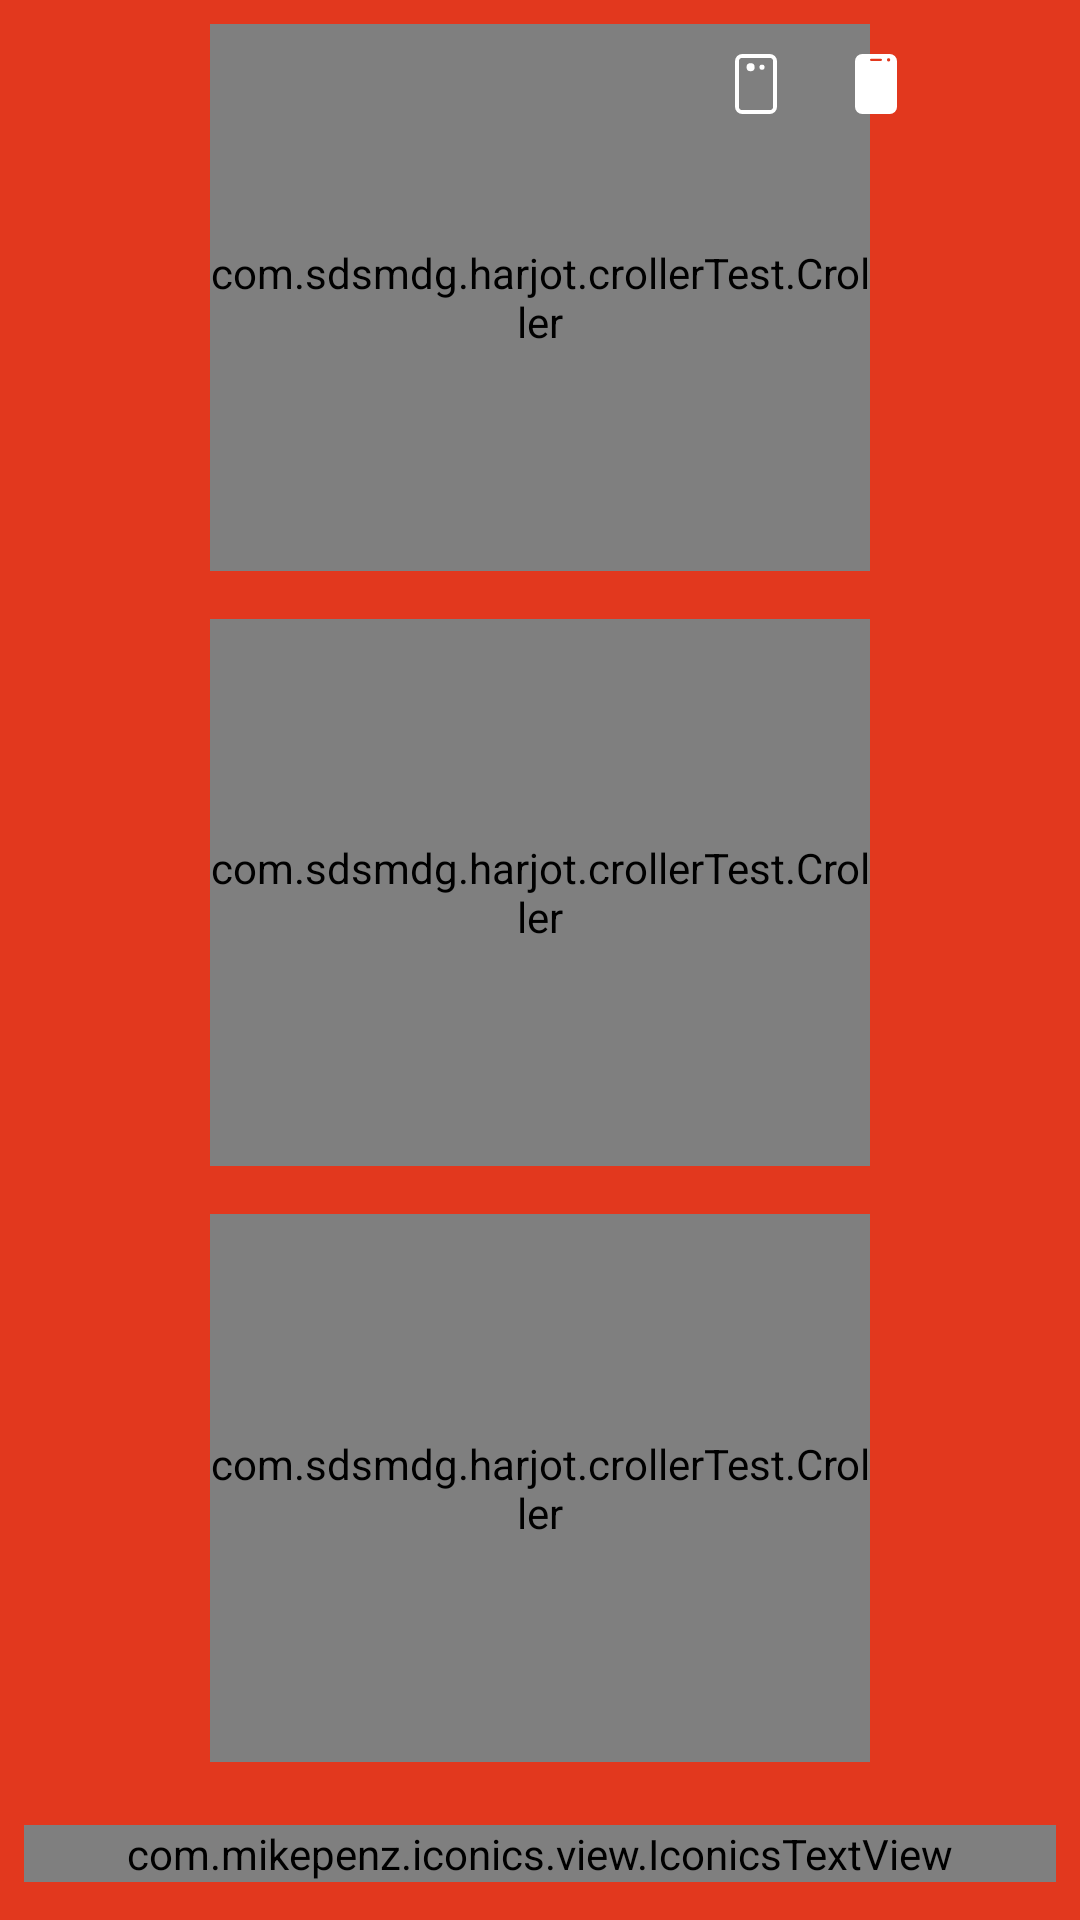

Icons on this 1080px×1920px Android screen, each with the point to tap as (x=x, y=y):
flash rear: (x=756, y=84)
